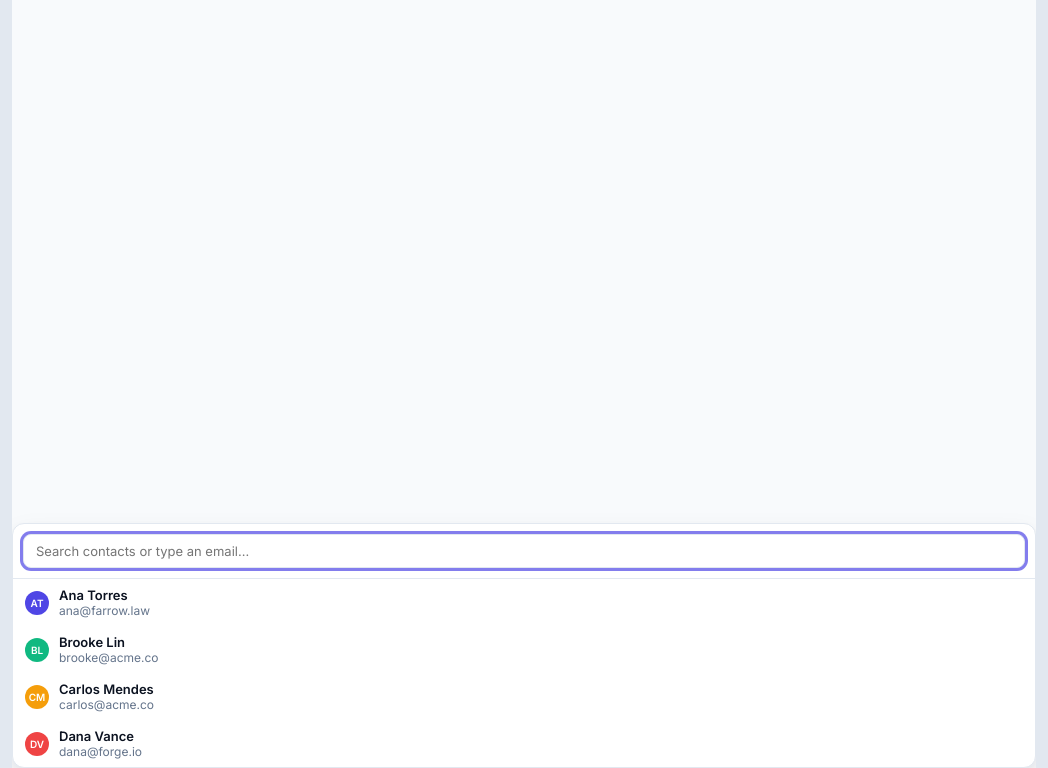
Scenario: AddSignerDropdown › filters contacts by substring in name or email (case-insensitive)
(page scrolled)
Type "acme" into the search field at (524, 551), box [23,534,1025,568]
(page scrolled)
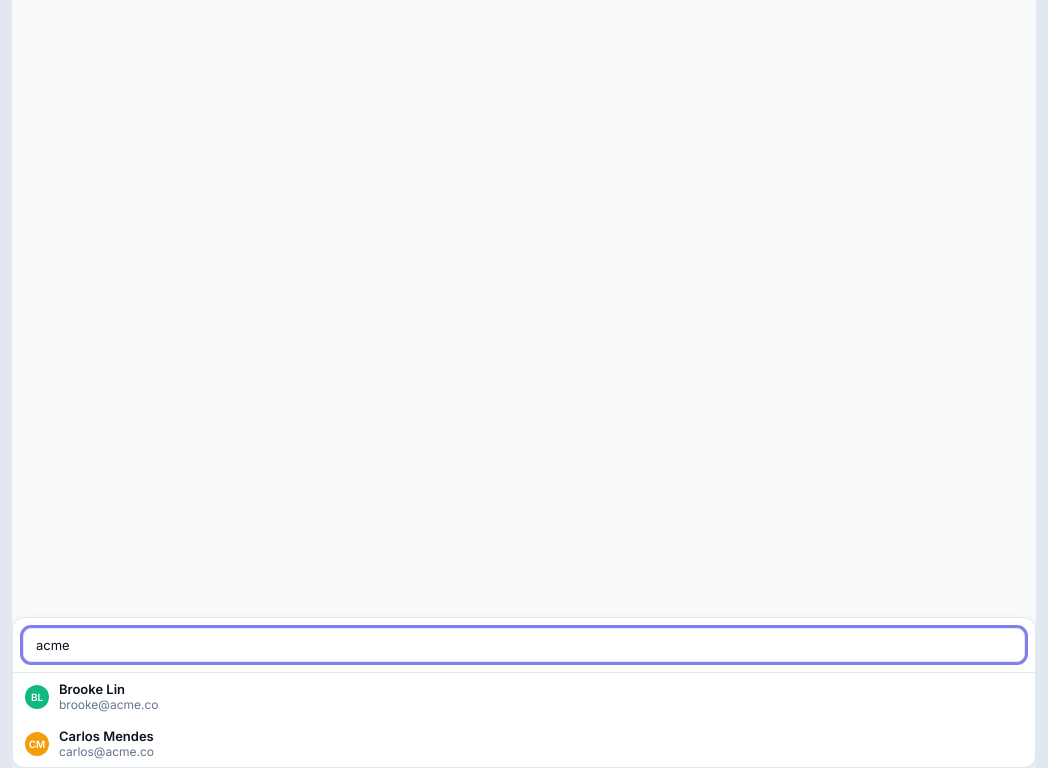
Check: the text "Brooke Lin" is shown, box [59,681,125,697]
Check: the option "Ana Torres" is gone
Check: the option "Dana Vance" is gone
